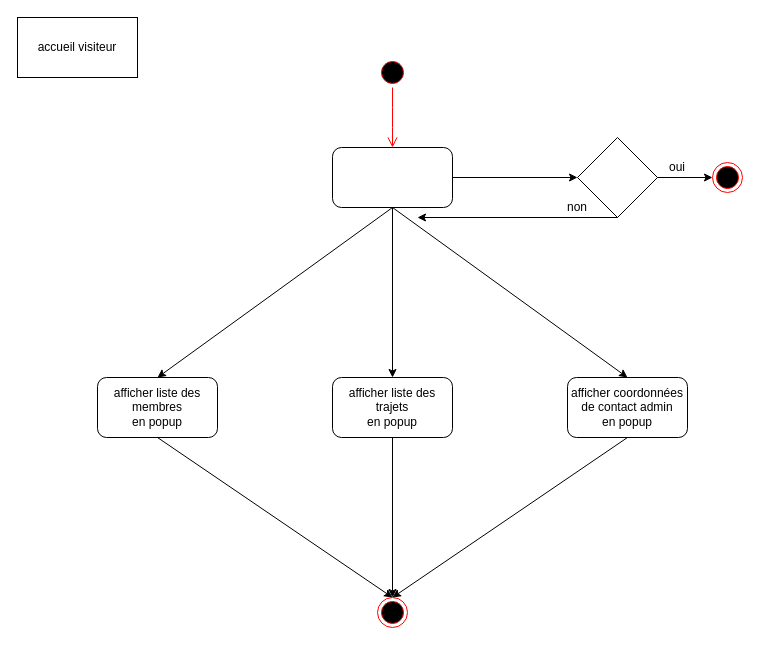
The diagram is 760 pixels wide and 645 high, and some of its shapes have lost their labels. The shapes that lost their labels are listed below. From the top down, each one's box as (x1, y1, x2, y2) in pixels, then its label:
(332, 146, 452, 208): page d'accueil visiteur
(576, 136, 658, 218): deconnexion
